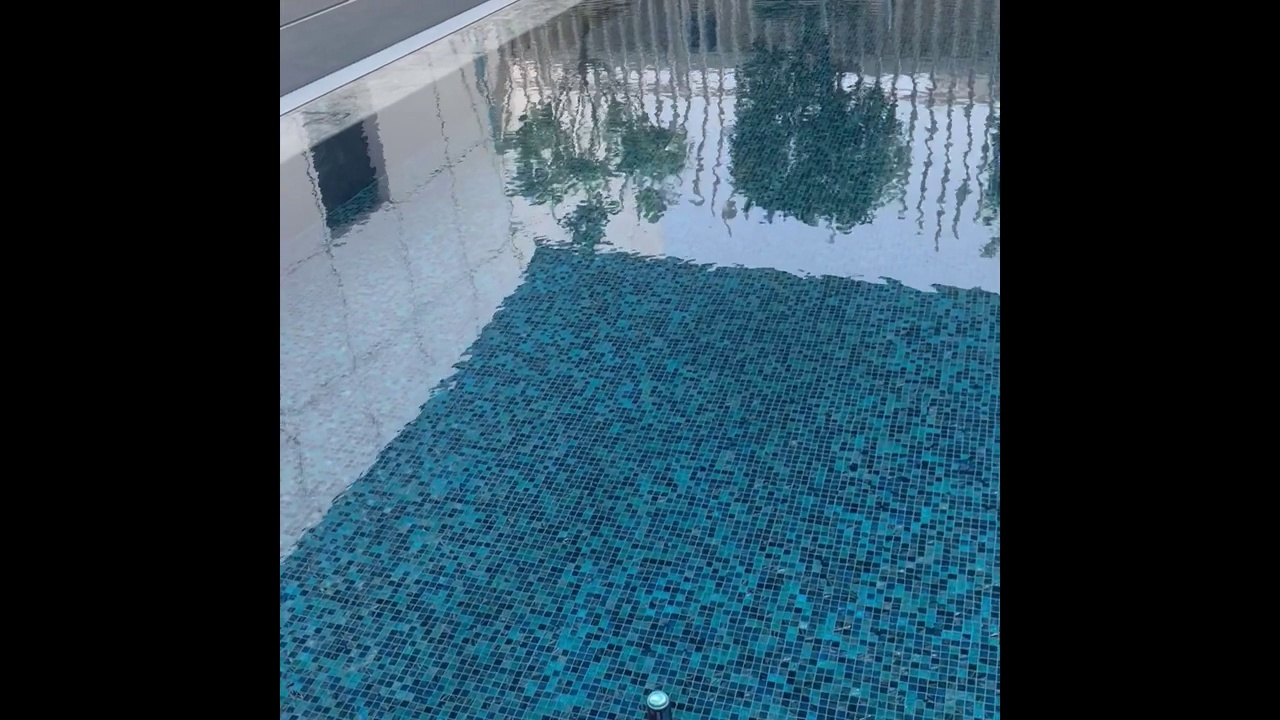debris: (642, 687, 675, 720)
